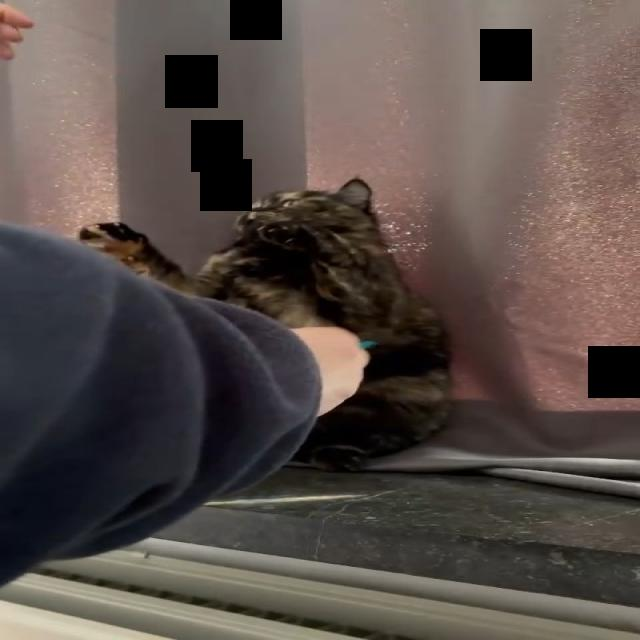authorized: (74, 176, 454, 472)
